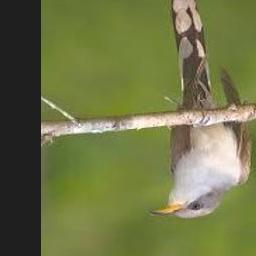Cuckoo: (148, 0, 252, 219)
